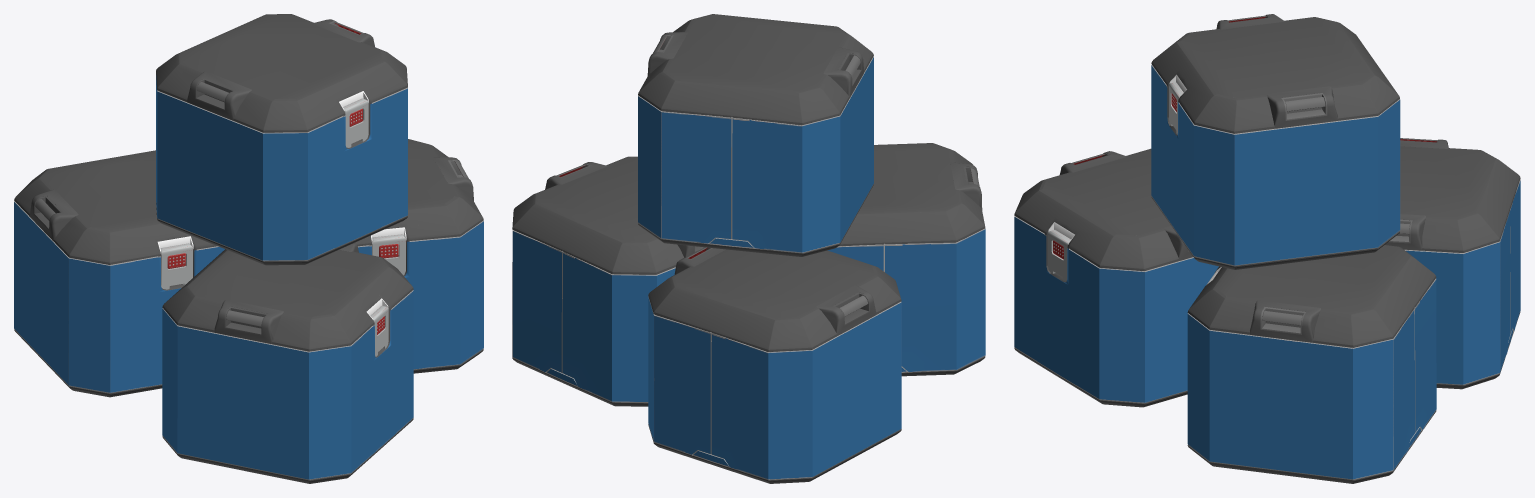
The picture shows the model from 3 angles, left to right: view 1: azimuth 30°, elevation 25°; view 2: azimuth 150°, elevation 25°; view 3: azimuth 270°, elevation 25°; orthographic projection. The views are drawn at different scales.
Visible parts, largest first — view 1: Cube; view 2: Cube; view 3: Cube.
Boxes of the visible parts, x1=… form: Cube: x1=14, y1=14, x2=483, y2=483; Cube: x1=512, y1=14, x2=985, y2=483; Cube: x1=1014, y1=14, x2=1520, y2=483.
Bounding box in the file's own units: 2478 × 1946 × 2741.
4 materials, 4 textured.
